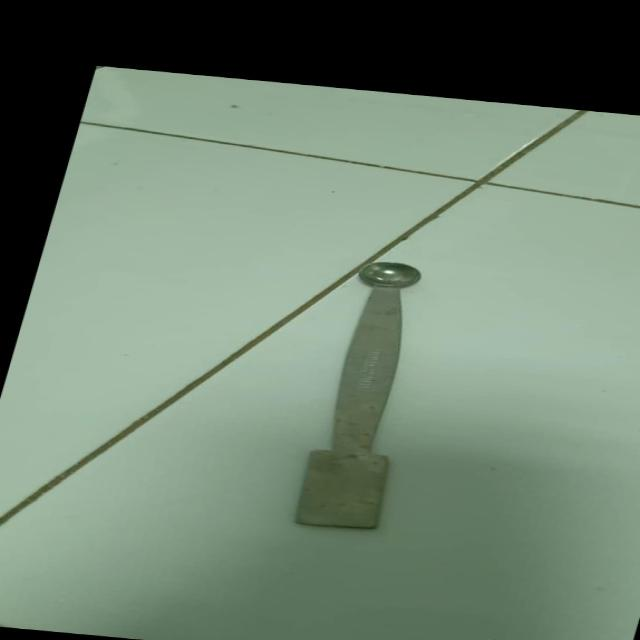Spatula: (275, 254, 465, 532)
